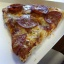pepperoni: (12, 33, 27, 53), (16, 17, 37, 30), (45, 11, 60, 25), (31, 5, 48, 14), (8, 4, 24, 12)
pizza: (5, 3, 60, 60)
